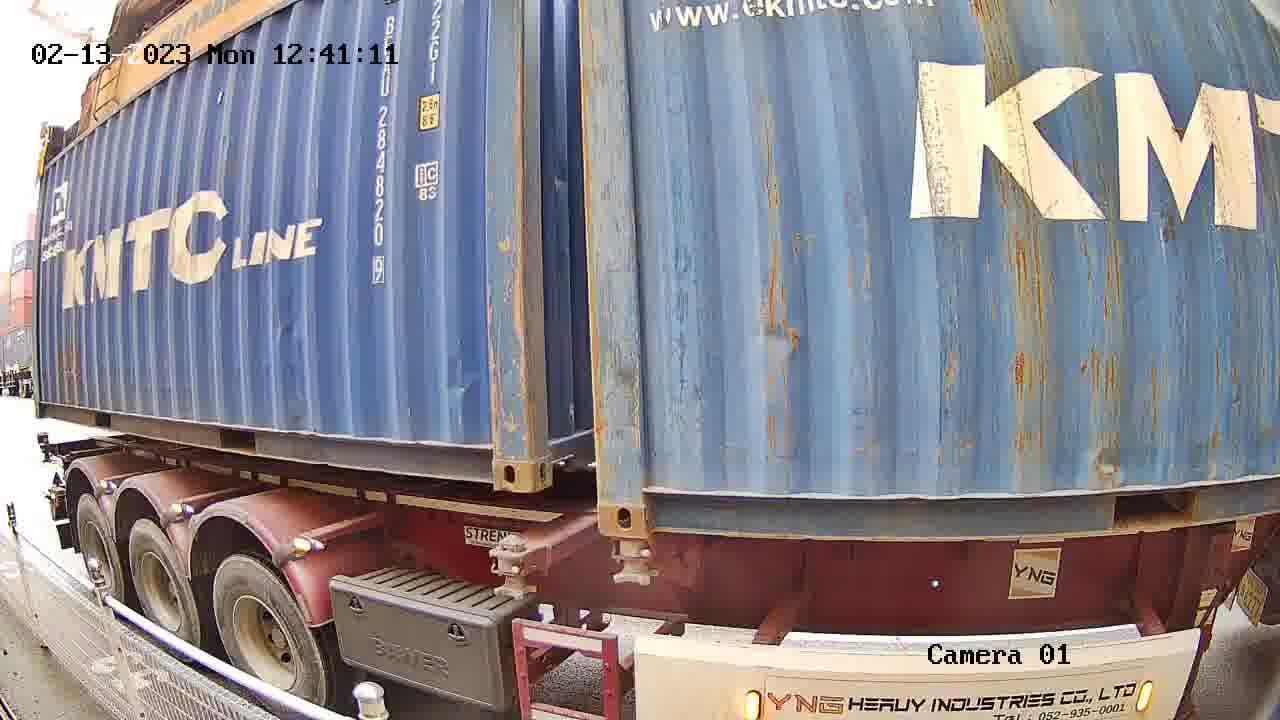Cone: (488, 536, 538, 600), (605, 540, 657, 589)
Hole_L: (597, 465, 690, 539), (529, 412, 583, 492)
Hole_R: (453, 424, 529, 493)
Tire: (211, 558, 326, 719), (127, 520, 200, 662), (75, 496, 123, 610)
